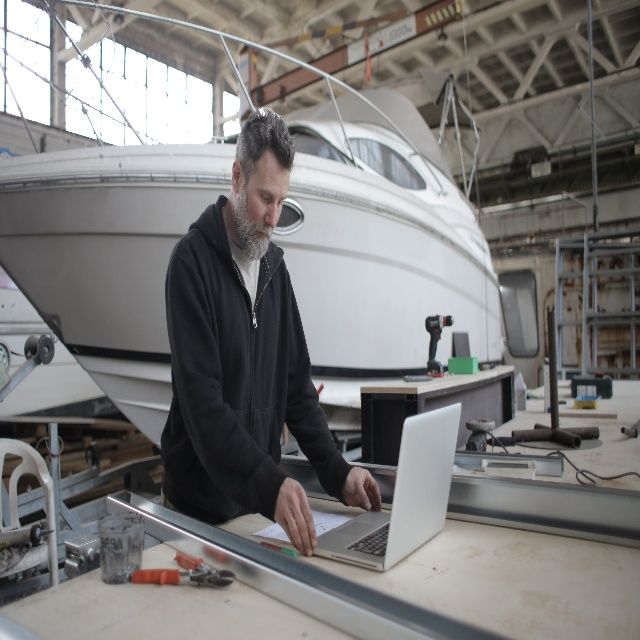Sin_guantes: (274, 477, 318, 557), (342, 465, 383, 512)
